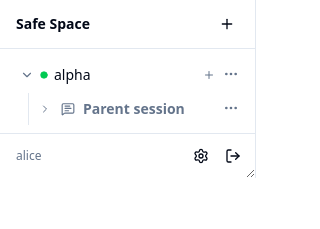
Sidebar — activity spinner and unread pulsation (US-37.5/37.6) › only top-level sessions pulse; subtasks do not pulse when unread
Expected: the text "Parent session" is shown, [83, 99, 185, 118]
# Expand the parent so the child row is rendered.
Click the button named "Expand subtasks". click: click(45, 109)
box: [37, 101, 53, 117]
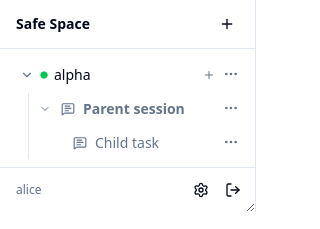
Expected: the text "Child task" is shown, [95, 133, 159, 152]
